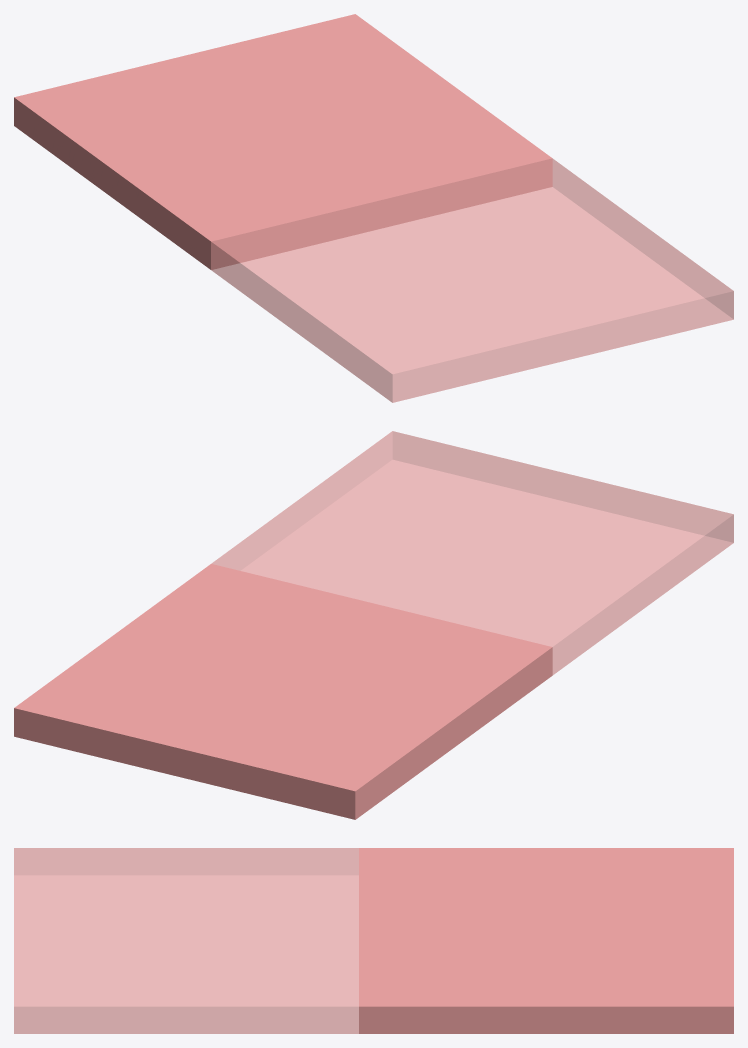
The model's file is torre_step3.glb.
3 views of the same model, one above another, from view 1: azimuth 30°, elevation 25°; view 2: azimuth 150°, elevation 25°; view 3: azimuth 270°, elevation 25° (orthographic). The views are drawn at different scales.
Parts seen in each view (by area): view 1: quadrato_grande.001, quadrato_grande; view 2: quadrato_grande.001, quadrato_grande; view 3: quadrato_grande.001, quadrato_grande.
Part boxes in pixels (<box>): quadrato_grande.001: <box>14,14,552,269</box>; quadrato_grande: <box>195,148,733,402</box>; quadrato_grande.001: <box>14,564,552,819</box>; quadrato_grande: <box>199,431,733,686</box>; quadrato_grande.001: <box>359,848,733,1033</box>; quadrato_grande: <box>14,848,388,1033</box>.
Bounding box in the file's own units: 1 × 0.08 × 1.92.
